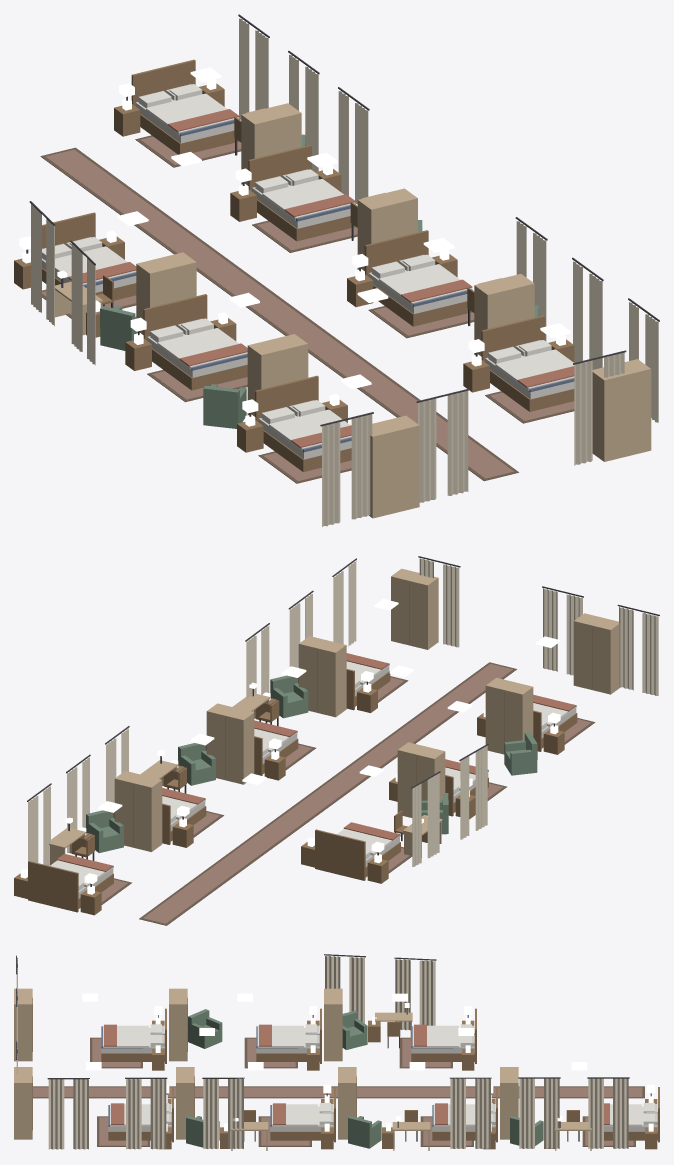
Rendered from fine-s1.glb.
3 renders of one model, top to bottom at view 1: azimuth 30°, elevation 25°; view 2: azimuth 150°, elevation 25°; view 3: azimuth 270°, elevation 25°, orthographic. The views are drawn at different scales.
Parts seen in each view (by area): view 1: soft-s1, dresser.006, dresser.002, bed-frame.001, bed-frame.004, bed-frame.003, bed-frame.005, bed-frame.006, bed-frame.002, dresser.001, dresser.004, dresser.003 (+11 smaller); view 2: soft-s1, dresser.006, dresser.002, dresser.003, dresser.005, dresser.004, dresser.001, dresser.000, bed-frame.003, bed-frame.000, lounge-chair.004, lounge-chair.003 (+8 smaller); view 3: soft-s1, dresser.000, dresser.001, dresser.006, dresser.002, dresser.003, dresser.004, dresser.005, bed-frame.005, bed-frame.001, bed-frame.002, lounge-chair.001 (+17 smaller).
Boxes of the visible parts, x1,y1,x2,y2 form: soft-s1: (19,14,659,526); dresser.006: (592,359,651,461); dresser.002: (368,415,419,518); bed-frame.001: (143,294,247,390); bed-frame.004: (248,145,355,241); bed-frame.003: (131,59,239,154); bed-frame.005: (364,230,472,326); bed-frame.006: (481,315,574,411); bed-frame.002: (255,375,351,471); dresser.001: (247,334,308,416); dresser.004: (357,188,417,270); dresser.003: (241,103,301,185); soft-s1: (27,556,659,925); dresser.006: (391,568,438,649); dresser.002: (573,613,620,694); dresser.003: (114,771,162,851); dresser.005: (298,636,346,717); dresser.004: (206,703,254,784); dresser.001: (485,677,533,754); dresser.000: (397,742,445,817); bed-frame.003: (28,861,113,912); bed-frame.000: (315,829,400,880); lounge-chair.004: (270,675,308,718); lounge-chair.003: (178,743,215,785); soft-s1: (16,954,656,1149); dresser.000: (324,988,342,1061); dresser.001: (169,988,187,1061); dresser.006: (14,1067,32,1139); dresser.002: (14,988,32,1061); dresser.003: (500,1067,518,1139); dresser.004: (338,1067,356,1139); dresser.005: (176,1067,194,1139); bed-frame.005: (270,1087,335,1142); bed-frame.001: (256,1008,321,1063); bed-frame.002: (101,1008,166,1063); lounge-chair.001: (188,1009,222,1048).
Bounding box in the file's own units: 9.4 × 2.56 × 20.62.
